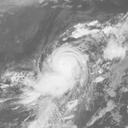cyclone: (34, 42, 90, 97)
